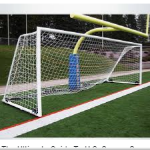goals: (3, 25, 143, 117)
